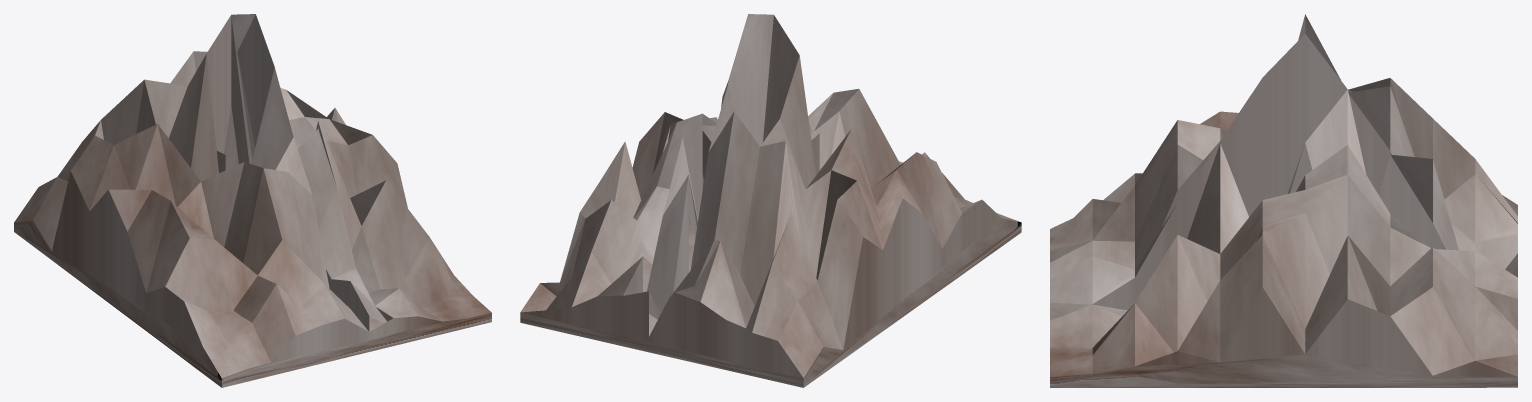
File: MountainRange2.glb
The picture shows the model from 3 angles, left to right: view 1: azimuth 30°, elevation 25°; view 2: azimuth 150°, elevation 25°; view 3: azimuth 270°, elevation 25°; orthographic projection. The views are drawn at different scales.
Visible parts, largest first — view 1: Cube; view 2: Cube; view 3: Cube.
Part boxes in pixels (left/top/right/bottom): Cube: left=14, top=14, right=491, bottom=387; Cube: left=520, top=14, right=1021, bottom=387; Cube: left=1050, top=14, right=1517, bottom=387.
Size of the model in its own units: 60 by 55.29 by 80.
Materials: 1 (1 with a texture image).
